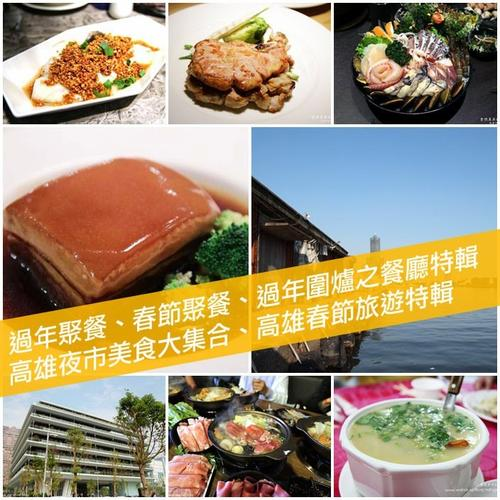buildings: (28, 196, 473, 385)
food: (4, 138, 227, 306), (172, 6, 325, 115), (8, 15, 163, 117), (347, 377, 485, 483), (342, 18, 466, 113)
